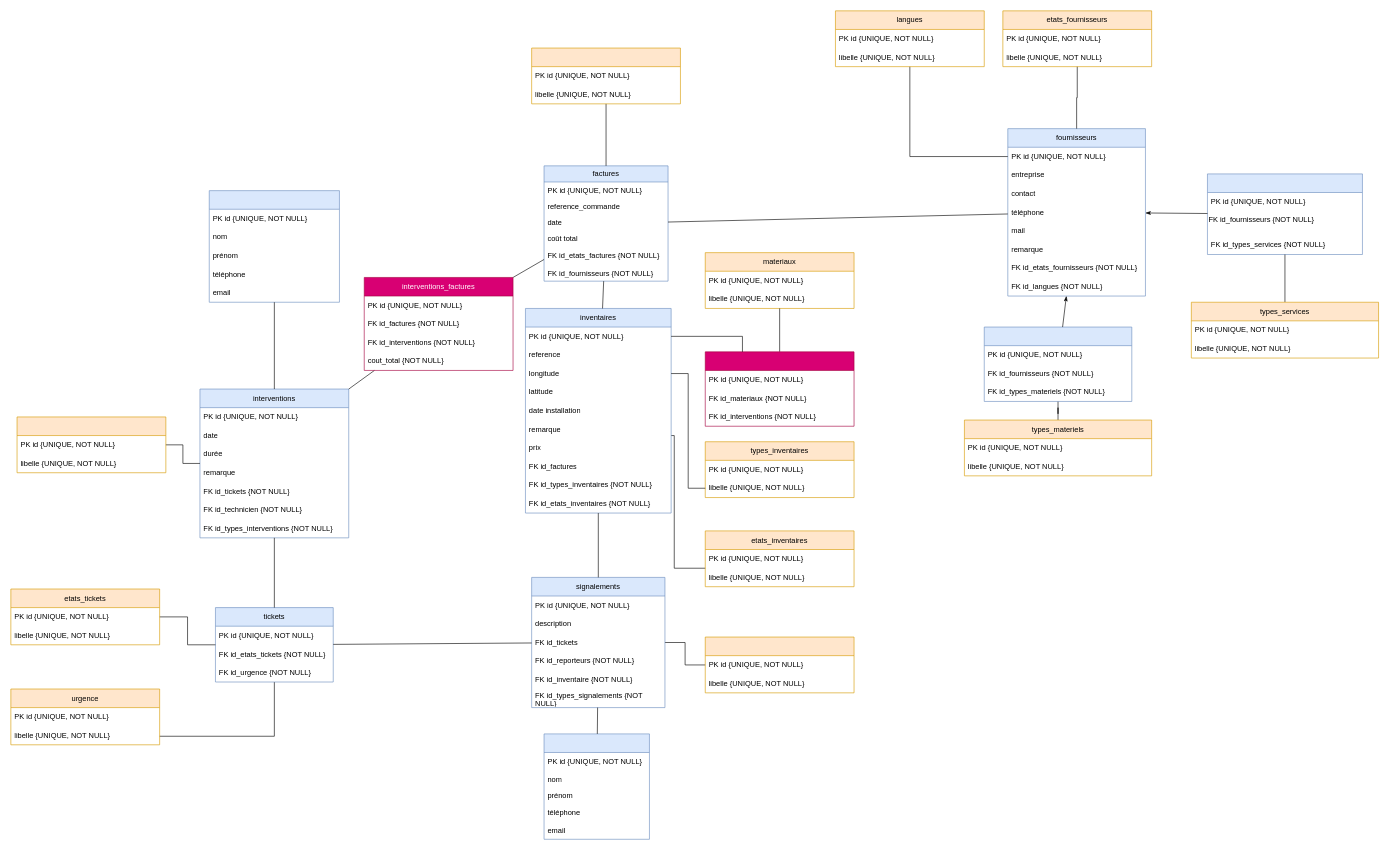
The diagram is 1389 pixels wide and 851 high, and some of its shapes have lost their labels. Here are the shapes that lost their labels. From the top down, the box of each, then its label:
(531, 47, 680, 104): etats_factures
(1207, 173, 1362, 255): fournisseurs_de_services
(209, 190, 339, 302): techniciens
(984, 326, 1132, 401): fournisseurs_de_materiels
(705, 351, 854, 426): interventions_materiaux
(16, 416, 166, 473): types_interventions
(705, 636, 854, 693): types_signalements
(543, 733, 649, 839): reporteurs
